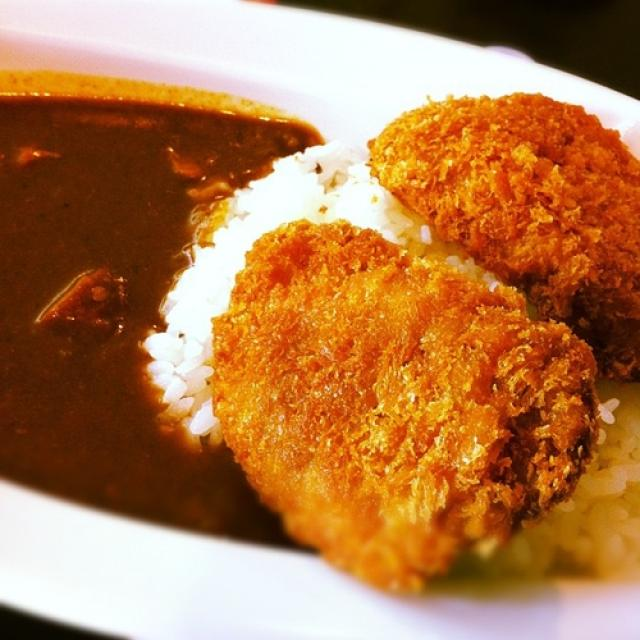牛肉菜式: (18, 32, 616, 602)
